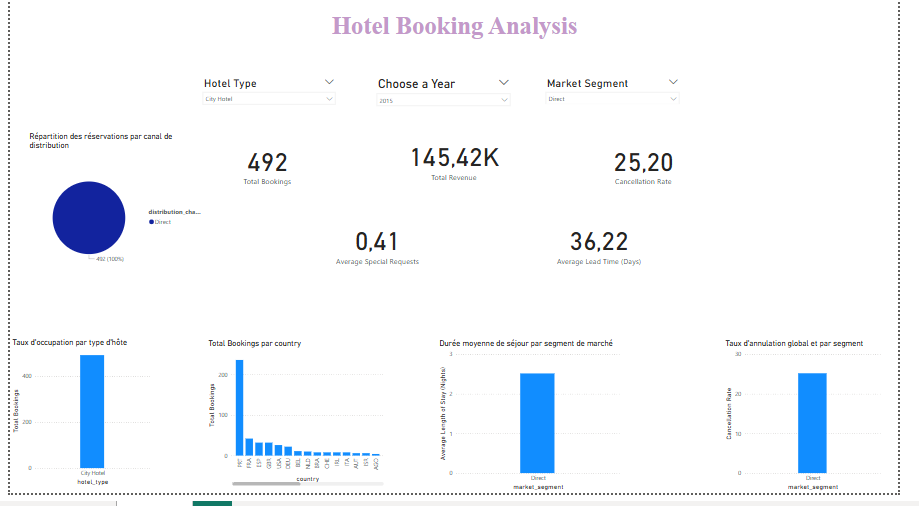

The dashboard page shown, as its layout file describes it:
{"tool":"powerbi","page":{"name":"Page 1","canvas":[1920,1080],"ordinal":0},"visuals":[{"type":"columnChart","title":"Taux d''occupation par type d''hôte","fields":{"Y":["dw_final fact_booking.Total Bookings"],"Category":["dw_final dim_hotel.hotel_type"]},"box":[0,745.2,306.7,324],"z":0},{"type":"card","fields":{"Values":["dw_final fact_booking.Total Revenue"]},"box":[794.9,285.1,328.3,146.9],"z":1000},{"type":"clusteredColumnChart","title":"Durée moyenne de séjour par segment de marché","fields":{"Category":["dw_final dim_sales_channel.market_segment"],"Y":["dw_final fact_booking.Average Length of Stay (Nights)"]},"box":[922.3,747.4,399.6,332.6],"z":2000},{"type":"card","fields":{"Values":["dw_final fact_booking.Cancellation Rate"]},"box":[1196.6,285.1,343.4,166.3],"z":3000},{"type":"clusteredColumnChart","title":"Taux d''annulation global et par segment","fields":{"Category":["dw_final dim_sales_channel.market_segment"],"Y":["dw_final fact_booking.Cancellation Rate"]},"box":[1540.1,747.4,345.6,332.6],"z":4000},{"type":"card","title":"Délai moyen entre réservation et arrivée","fields":{"Values":["dw_final fact_booking.Average Lead Time (Days)"]},"box":[1123.2,466.6,298.1,146.9],"z":5000},{"type":"clusteredColumnChart","fields":{"Category":["dw_final dim_guest.country"],"Y":["dw_final fact_booking.Total Bookings"]},"box":[423.4,747.4,388.8,321.8],"z":6000},{"type":"card","fields":{"Values":["dw_final fact_booking.Average Special Requests"]},"box":[643.7,466.6,300.2,146.9],"z":7000},{"type":"card","fields":{"Values":["dw_final fact_booking.Total Bookings"]},"box":[406.1,285.1,300.2,166.3],"z":8000},{"type":"textbox","box":[0,0,1920.1,240.7],"z":9000},{"type":"slicer","fields":{"Values":["dw_final dim_time.year_num"]},"box":[781.9,175,308.9,129.6],"z":10000},{"type":"pieChart","title":"Répartition des réservations par canal de distribution ","fields":{"Y":["dw_final fact_booking.Total Bookings"],"Category":["dw_final dim_sales_channel.distribution_channel"]},"box":[36.7,300.2,386.6,332.6],"z":11000},{"type":"slicer","fields":{"Values":["dw_final dim_hotel.hotel_type"]},"box":[406.1,175,306.7,129.6],"z":12000},{"type":"slicer","fields":{"Values":["dw_final dim_sales_channel.market_segment"]},"box":[1147,175,308.9,64.8],"z":13000}]}

Visuals, with their boxes in screenshot pixels (x1, y1, x2, y2), scaled from the page's 1920x1080 canvas onto the 919x506 screenshot:
"Taux d''occupation par type d''hôte" columnChart: detection(0, 349, 147, 501)
card - dw_final fact_booking.Total Revenue: detection(380, 134, 538, 202)
"Durée moyenne de séjour par segment de marché" clusteredColumnChart: detection(441, 350, 633, 505)
card - dw_final fact_booking.Cancellation Rate: detection(573, 134, 737, 211)
"Taux d''annulation global et par segment" clusteredColumnChart: detection(737, 350, 903, 505)
"Délai moyen entre réservation et arrivée" card: detection(538, 219, 680, 287)
clusteredColumnChart - dw_final dim_guest.country x dw_final fact_booking.Total Bookings: detection(203, 350, 389, 501)
card - dw_final fact_booking.Average Special Requests: detection(308, 219, 452, 287)
card - dw_final fact_booking.Total Bookings: detection(194, 134, 338, 211)
textbox: detection(0, 0, 918, 113)
slicer - dw_final dim_time.year_num: detection(374, 82, 522, 143)
"Répartition des réservations par canal de distribution " pieChart: detection(18, 141, 203, 296)
slicer - dw_final dim_hotel.hotel_type: detection(194, 82, 341, 143)
slicer - dw_final dim_sales_channel.market_segment: detection(549, 82, 697, 112)
